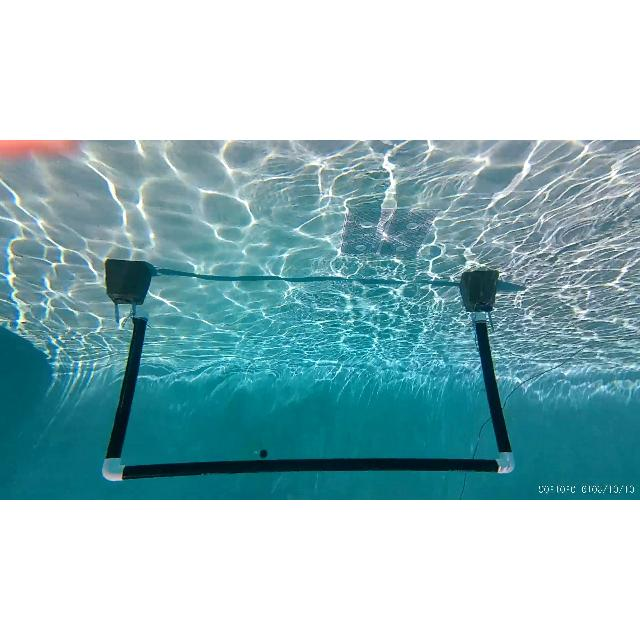prequal gate: (98, 304, 516, 482)
prequal gate leg l: (454, 266, 520, 482)
prequal gate leg r: (90, 257, 158, 483)
